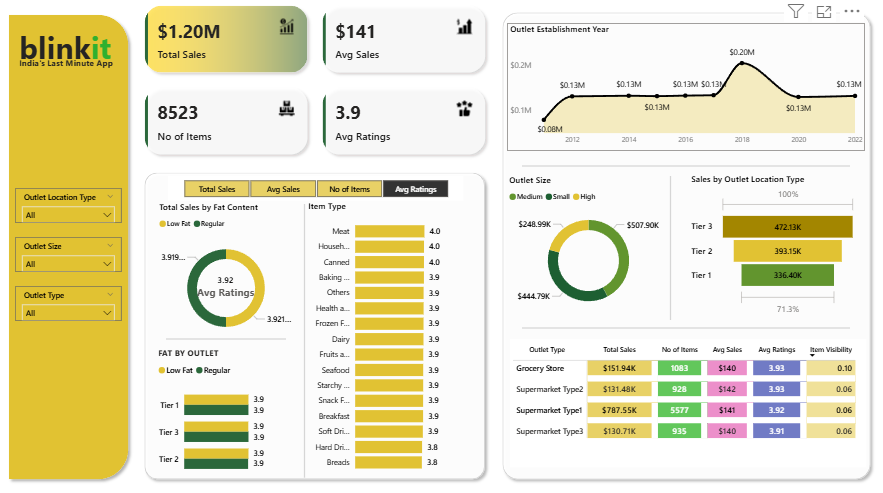

What the dashboard file says about the page in this screenshot:
{"tool":"powerbi","page":{"name":"Page 1","canvas":[1400,800],"ordinal":0},"visuals":[{"type":"shape","box":[12.6,25.2,206.3,749.6],"z":0},{"type":"textbox","box":[33.1,47.2,165.4,78.7],"z":1000},{"type":"textbox","box":[33.2,95.8,174,29.3],"z":2000},{"type":"cardVisual","fields":{"Data":["BlinkIT Grocery Data.Total Sales","BlinkIT Grocery Data.Avg Sales","BlinkIT Grocery Data.No of Items","BlinkIT Grocery Data.Avg Ratings"]},"box":[219,3.9,570.9,269.8],"z":3000},{"type":"shape","box":[226.8,273.7,553.4,500.6],"z":4000},{"type":"donutChart","title":"Total Sales by  Fat Content","fields":{"Y":["BlinkIT Grocery Data.Avg Ratings"],"Category":["BlinkIT Grocery Data.Item Fat Content"]},"box":[253.5,327.6,220.5,229.9],"z":5000},{"type":"slicer","fields":{"Values":["Metrics.Metrics"]},"box":[271.8,287.4,465.4,39.1],"z":6000},{"type":"cardVisual","fields":{"Data":["BlinkIT Grocery Data.Avg Ratings"]},"box":[301.1,420.4,125.1,82.1],"z":7000},{"type":"clusteredBarChart","title":"FAT BY OUTLET","fields":{"Y":["BlinkIT Grocery Data.Avg Ratings"],"Category":["BlinkIT Grocery Data.Outlet Location Type"],"Series":["BlinkIT Grocery Data.Item Fat Content"]},"box":[252,557.5,222,215.7],"z":8000},{"type":"shape","box":[269.3,459.8,189,170.1],"z":9000},{"type":"shape","box":[398.4,332.3,178,431.5],"z":10000},{"type":"barChart","title":"Item Type","fields":{"Y":["BlinkIT Grocery Data.Avg Ratings"],"Category":["BlinkIT Grocery Data.Item Type"]},"box":[488.2,326,264.6,437.8],"z":11000},{"type":"shape","box":[790.6,22,596.9,752.8],"z":12000},{"type":"lineChart","title":"Outlet Establishment Year","fields":{"Y":["BlinkIT Grocery Data.Total Sales"],"Category":["BlinkIT Grocery Data.Outlet Establishment Year"]},"box":[805.6,46.9,565.1,201.4],"z":13000},{"type":"shape","box":[829.9,187.4,516.5,170.1],"z":14000},{"type":"donutChart","title":"Outlet Size","fields":{"Y":["BlinkIT Grocery Data.Total Sales"],"Category":["BlinkIT Grocery Data.Outlet Size"]},"box":[804.7,285,259.8,228.3],"z":15000},{"type":"shape","box":[974.8,288.2,178,226.8],"z":16000},{"type":"funnel","title":"Sales by Outlet Location Type","fields":{"Y":["Sum(BlinkIT Grocery Data.Sales)"],"Category":["BlinkIT Grocery Data.Outlet Location Type"]},"box":[1091.3,283.5,269.3,228.3],"z":17000},{"type":"shape","box":[829.9,442.5,516.5,170.1],"z":18000},{"type":"pivotTable","fields":{"Rows":["BlinkIT Grocery Data.Outlet Type"],"Values":["BlinkIT Grocery Data.Total Sales","BlinkIT Grocery Data.No of Items","BlinkIT Grocery Data.Avg Sales","BlinkIT Grocery Data.Avg Ratings","Avg(BlinkIT Grocery Data.Item Visibility)"]},"box":[811,544.9,560.6,201.6],"z":19000},{"type":"slicer","fields":{"Values":["BlinkIT Grocery Data.Outlet Location Type"]},"box":[31.3,307,168.2,54.7],"z":20000},{"type":"slicer","fields":{"Values":["BlinkIT Grocery Data.Outlet Size"]},"box":[31.3,384.2,168.2,54.7],"z":20001},{"type":"slicer","fields":{"Values":["BlinkIT Grocery Data.Outlet Type"]},"box":[31.3,461.5,168.2,54.7],"z":20002}]}

Visuals, with their boxes in screenshot pixels (x1, y1, x2, y2), scaled from the page's 1400x800 canvas onto the 883x493 screenshot:
shape: locate(8, 16, 138, 477)
textbox: locate(21, 29, 125, 78)
textbox: locate(21, 59, 131, 77)
cardVisual - BlinkIT Grocery Data.Total Sales x BlinkIT Grocery Data.Avg Sales: locate(138, 2, 498, 169)
shape: locate(143, 169, 492, 477)
"Total Sales by  Fat Content" donutChart: locate(160, 202, 299, 344)
slicer - Metrics.Metrics: locate(171, 177, 465, 201)
cardVisual - BlinkIT Grocery Data.Avg Ratings: locate(190, 259, 269, 310)
"FAT BY OUTLET" clusteredBarChart: locate(159, 344, 299, 476)
shape: locate(170, 283, 289, 388)
shape: locate(251, 205, 364, 471)
"Item Type" barChart: locate(308, 201, 475, 471)
shape: locate(499, 14, 875, 477)
"Outlet Establishment Year" lineChart: locate(508, 29, 865, 153)
shape: locate(523, 115, 849, 220)
"Outlet Size" donutChart: locate(508, 176, 671, 316)
shape: locate(615, 178, 727, 317)
"Sales by Outlet Location Type" funnel: locate(688, 175, 858, 315)
shape: locate(523, 273, 849, 378)
pivotTable - BlinkIT Grocery Data.Outlet Type x BlinkIT Grocery Data.Total Sales: locate(512, 336, 865, 460)
slicer - BlinkIT Grocery Data.Outlet Location Type: locate(20, 189, 126, 223)
slicer - BlinkIT Grocery Data.Outlet Size: locate(20, 237, 126, 270)
slicer - BlinkIT Grocery Data.Outlet Type: locate(20, 284, 126, 318)
